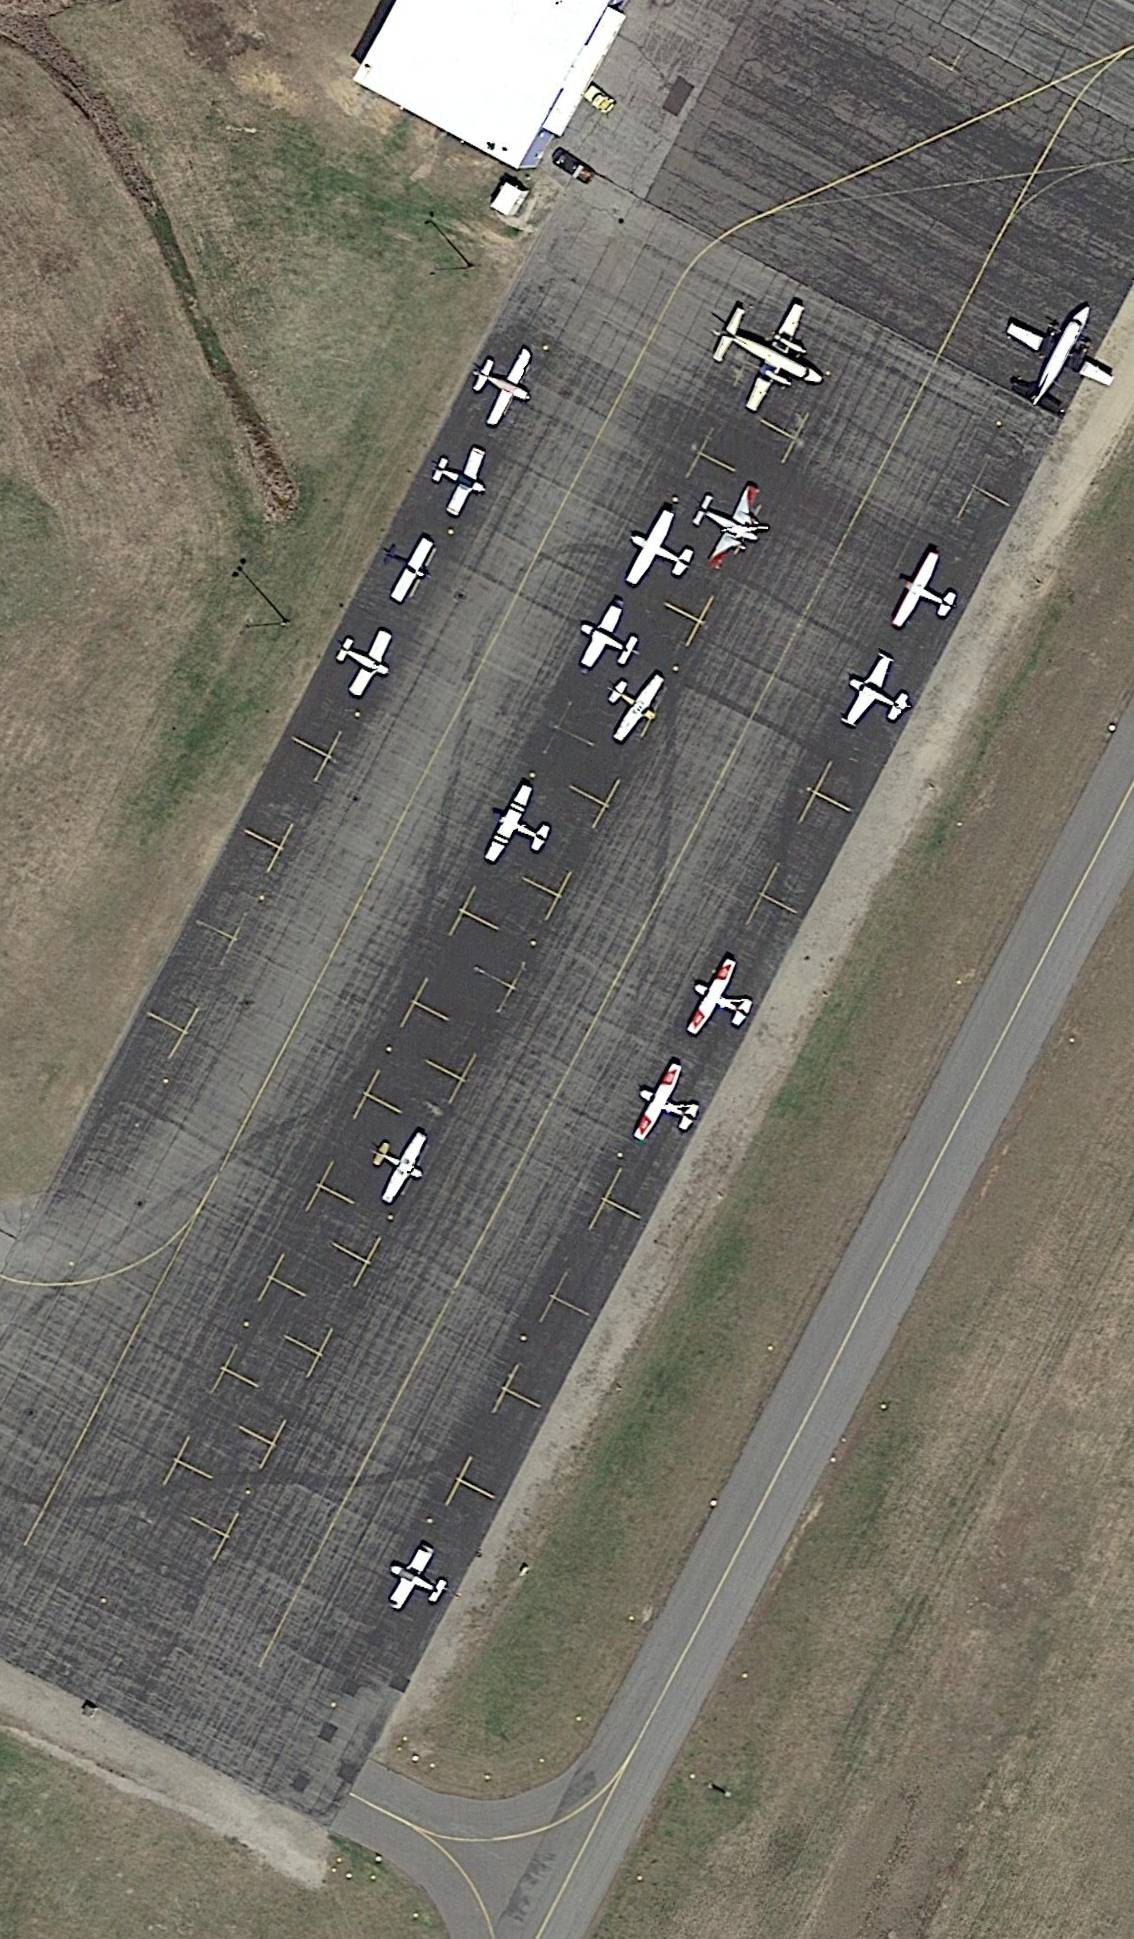plane: (687, 275, 853, 437), (983, 274, 1134, 434), (674, 466, 782, 584), (454, 332, 549, 440), (830, 645, 926, 752), (612, 499, 707, 606), (620, 1054, 714, 1160), (471, 776, 563, 882), (674, 950, 767, 1054), (880, 544, 971, 646), (589, 657, 675, 752), (566, 590, 651, 684), (356, 1119, 439, 1214), (374, 1536, 458, 1629), (418, 436, 500, 526), (363, 524, 443, 613), (324, 617, 404, 704)
